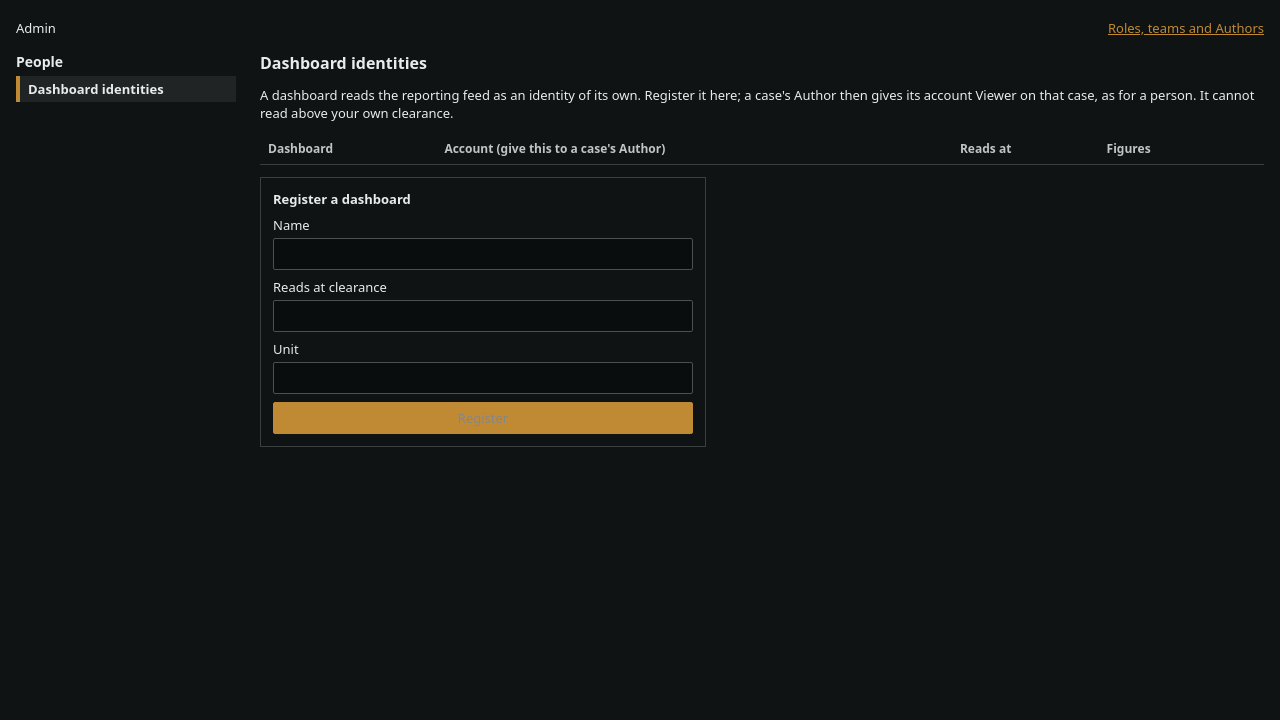
the Admin area › registers a dashboard and shows its secret once
Type "Board" into the field named "Dashboard name" at (483, 254), box [273, 238, 693, 270]
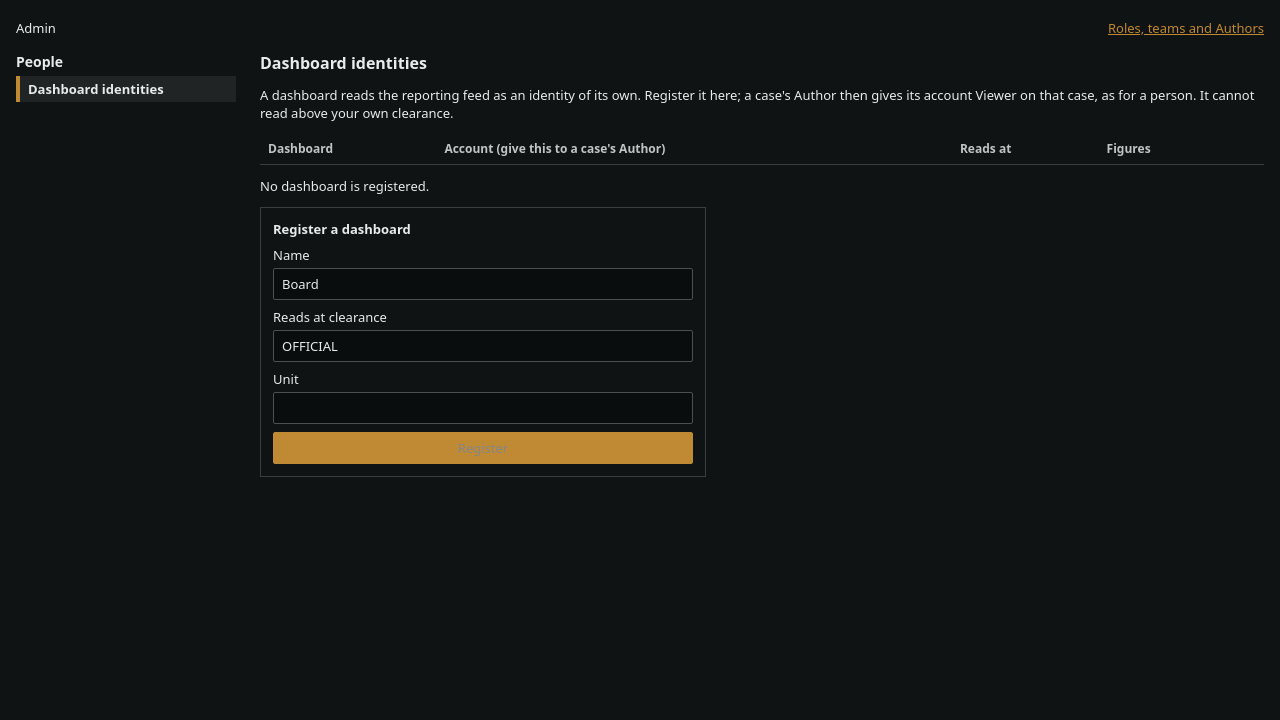
Type "verify" into the field named "Dashboard unit" at (483, 408), box [273, 392, 693, 424]
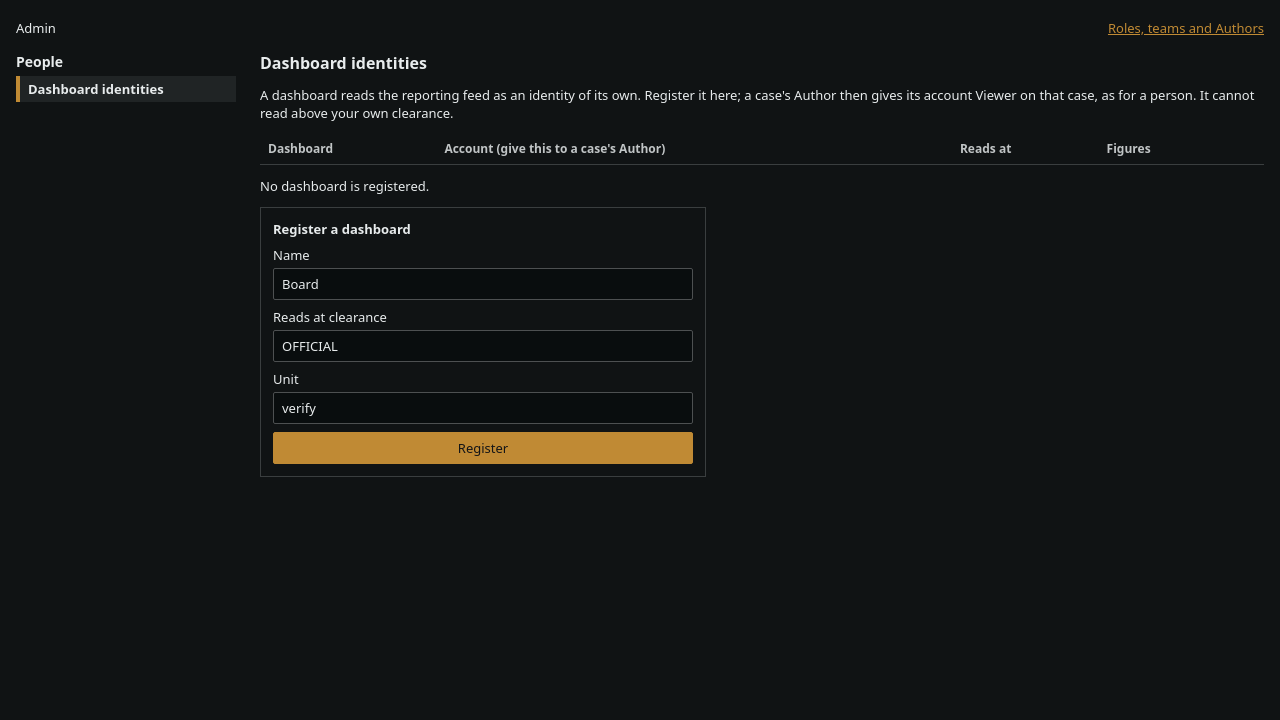
Expected: the dropdown named "Dashboard reads at clearance" shows "OFFICIAL", [273, 330, 693, 362]
Click the button "Register" at (483, 448), box [273, 432, 693, 464]
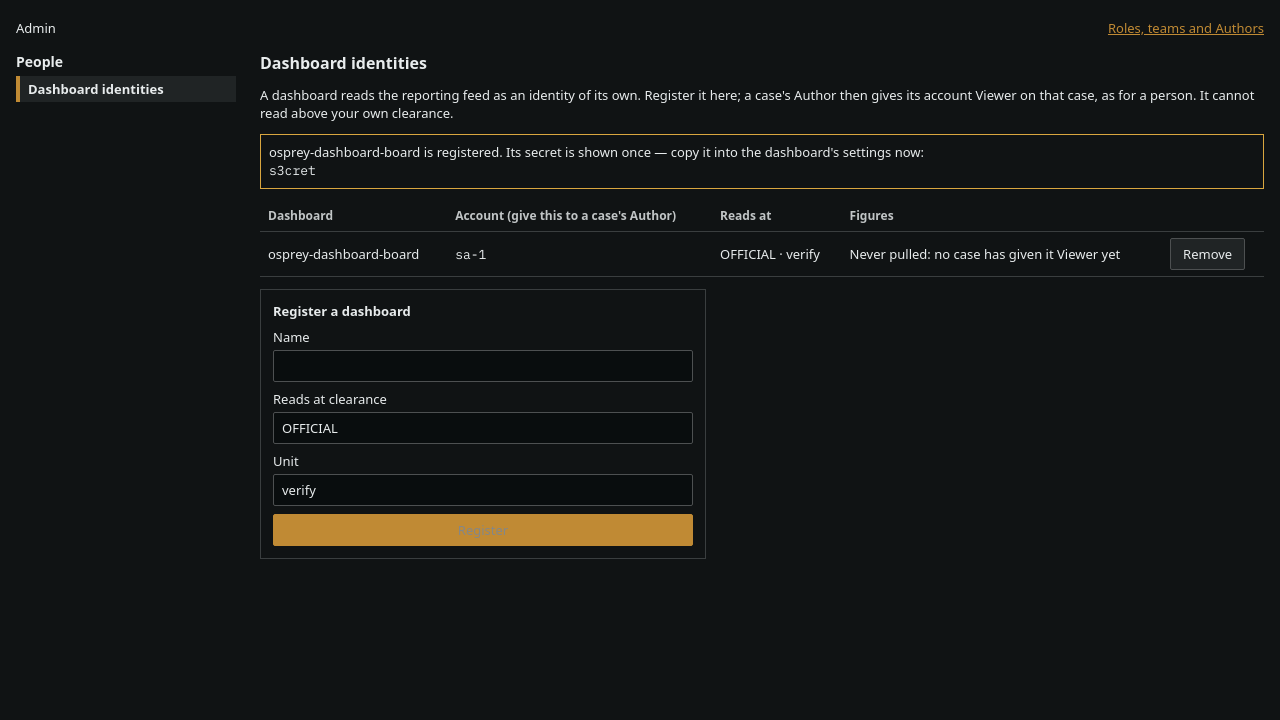
Expected: the text "s3cret" is shown, [269, 162, 316, 179]
Expected: the table named "Dashboard identities" shows "sa-1", [455, 246, 486, 262]
